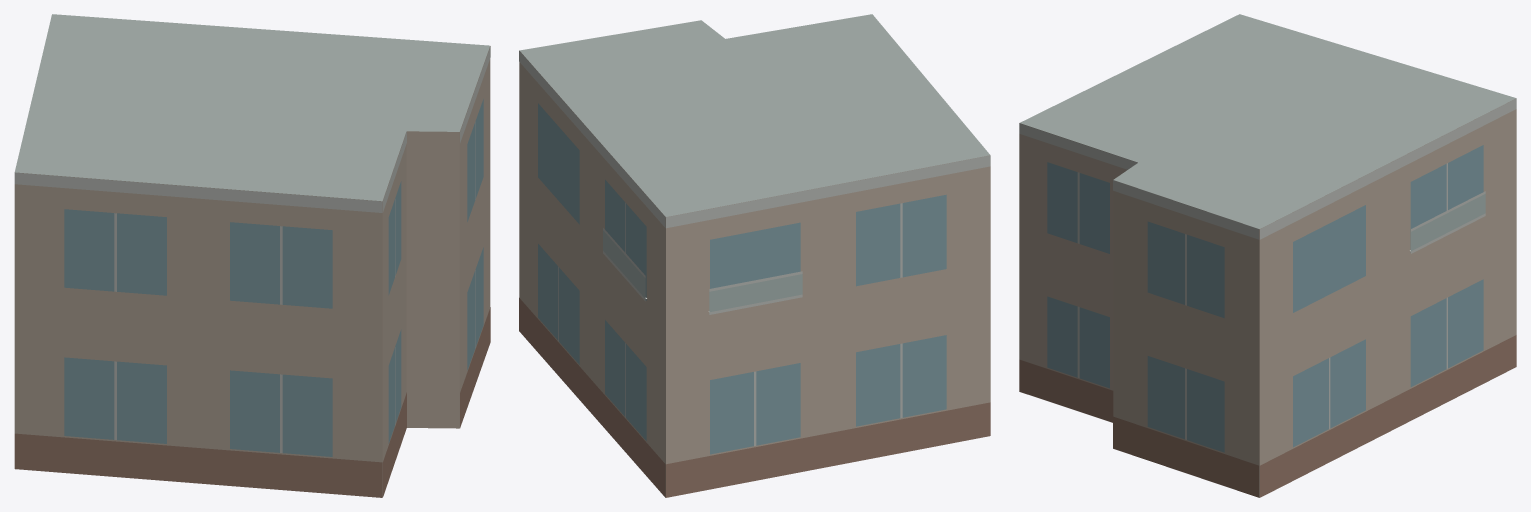
The model's file is survey-upis-32955591.glb.
3 renders of one model, left to right at view 1: azimuth 30°, elevation 25°; view 2: azimuth 150°, elevation 25°; view 3: azimuth 270°, elevation 25°, orthographic. The views are drawn at different scales.
Visible parts, largest first — view 1: survey-upis-32955591.tmp; view 2: survey-upis-32955591.tmp; view 3: survey-upis-32955591.tmp.
Boxes of the visible parts, bbox=[...] form: survey-upis-32955591.tmp: bbox=[14, 14, 490, 497]; survey-upis-32955591.tmp: bbox=[519, 14, 990, 497]; survey-upis-32955591.tmp: bbox=[1019, 14, 1516, 497].
Bounding box in the file's own units: 10.49 × 6.1 × 10.24.
